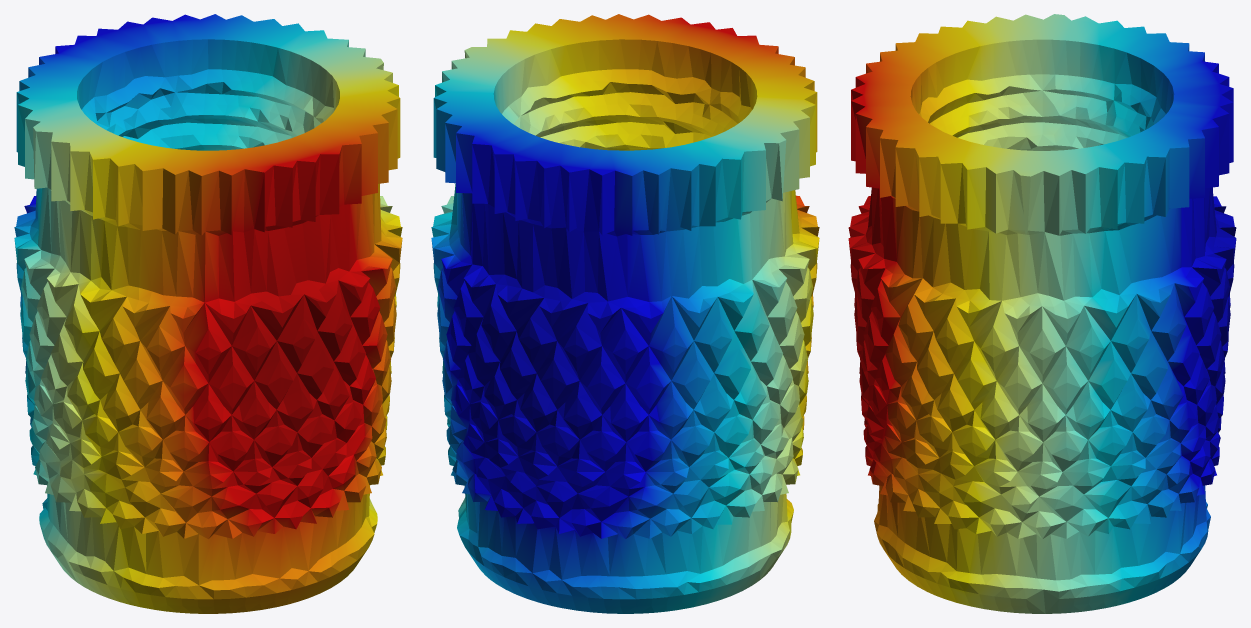
Rendered from fastener_ours_poisson.glb.
The picture shows the model from 3 angles, left to right: view 1: azimuth 30°, elevation 25°; view 2: azimuth 150°, elevation 25°; view 3: azimuth 270°, elevation 25°; orthographic projection.
Visible parts, largest first — view 1: genus_1.obj; view 2: genus_1.obj; view 3: genus_1.obj.
Part boxes in pixels (<box>): genus_1.obj: <box>14,14,402,613</box>; genus_1.obj: <box>431,14,819,613</box>; genus_1.obj: <box>848,14,1236,613</box>.
Bounding box in the file's own units: 1.19 × 1.54 × 1.19.
